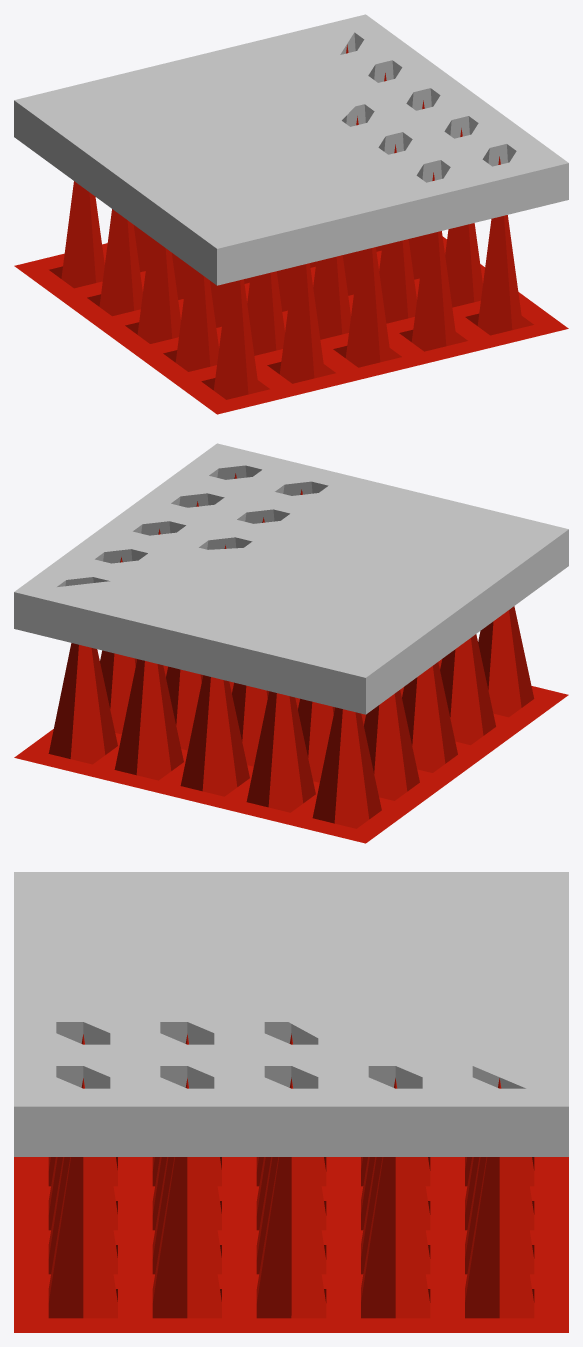
The model's file is piques.fbx.
3 renders of one model, top to bottom at view 1: azimuth 30°, elevation 25°; view 2: azimuth 150°, elevation 25°; view 3: azimuth 270°, elevation 25°, orthographic. The views are drawn at different scales.
Parts seen in each view (by area): view 1: Cube, Plane; view 2: Cube, Plane; view 3: Cube, Plane.
Part boxes in pixels (left/top/right/bottom): Cube: left=14, top=14, right=568, bottom=285; Plane: left=14, top=44, right=568, bottom=414; Cube: left=14, top=443, right=568, bottom=714; Plane: left=14, top=473, right=568, bottom=843; Cube: left=14, top=872, right=568, bottom=1156; Plane: left=14, top=1033, right=568, bottom=1332.
Size of the model in its own units: 200 by 90 by 200.
